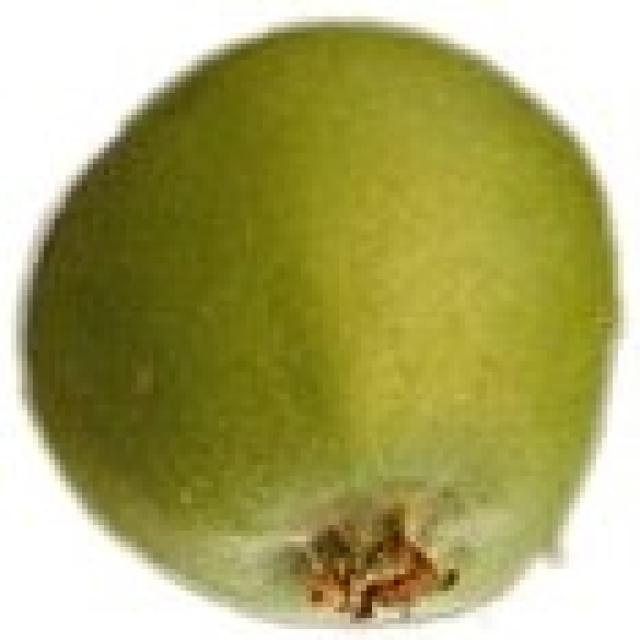50-_ripeness: (19, 24, 620, 630)
